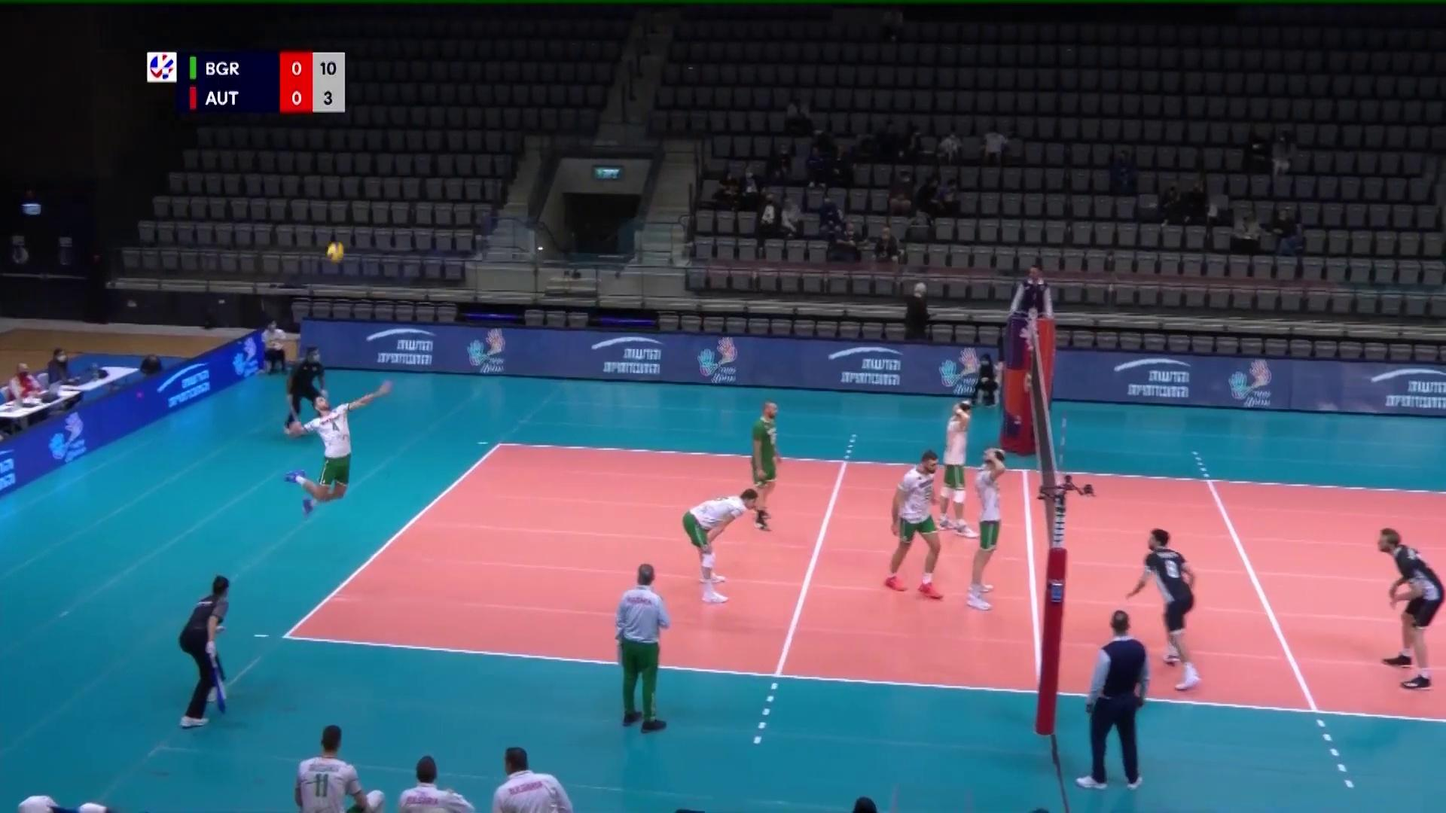ball: (326, 242, 345, 261)
